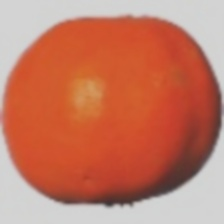tangerine: (44, 28, 199, 170)
